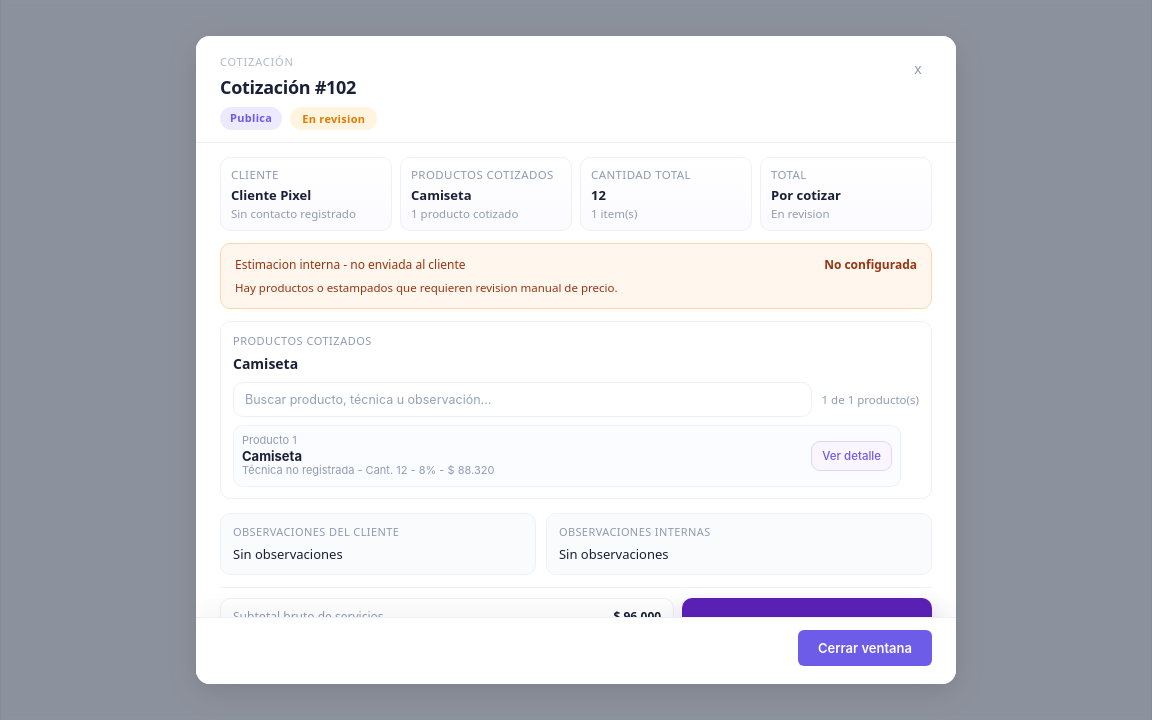
QuoteDetailsModal long contact data › shows product discount and pending calculation reasons with human labels
The image size is (1152, 720).
Click the button "Ver detalle" at (852, 456), box [811,441,892,471]
(page scrolled)
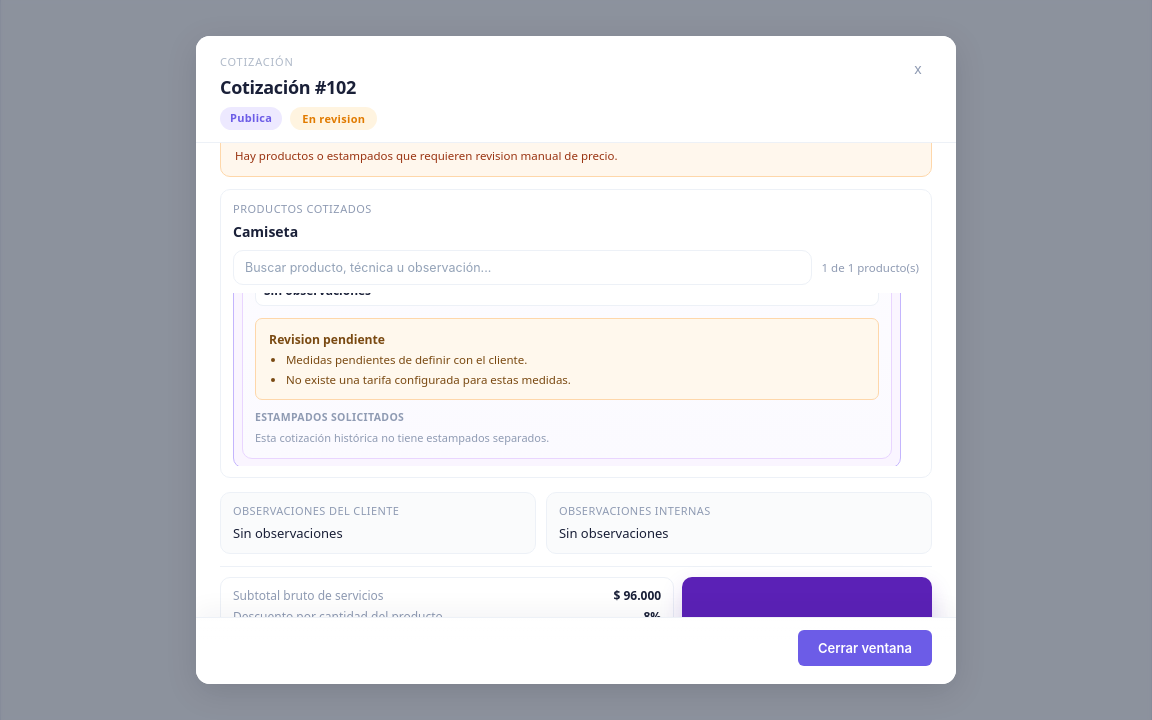
Expected: the list item "Medidas pendientes de definir con el cliente." is shown, [286,352,527,367]
Expected: the list item "No existe una tarifa configurada para estas medidas." is shown, [286,372,571,387]
